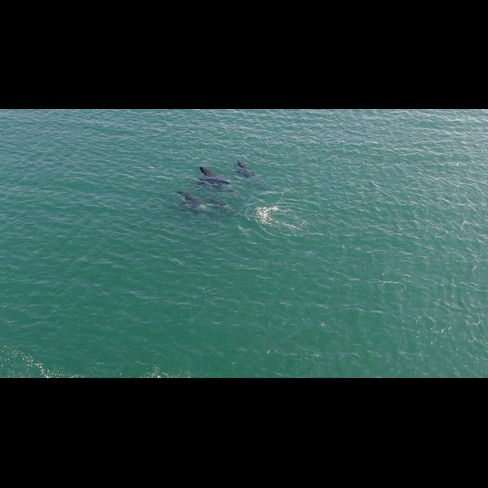orca: (176, 187, 240, 223), (226, 147, 257, 184), (196, 164, 229, 194)
